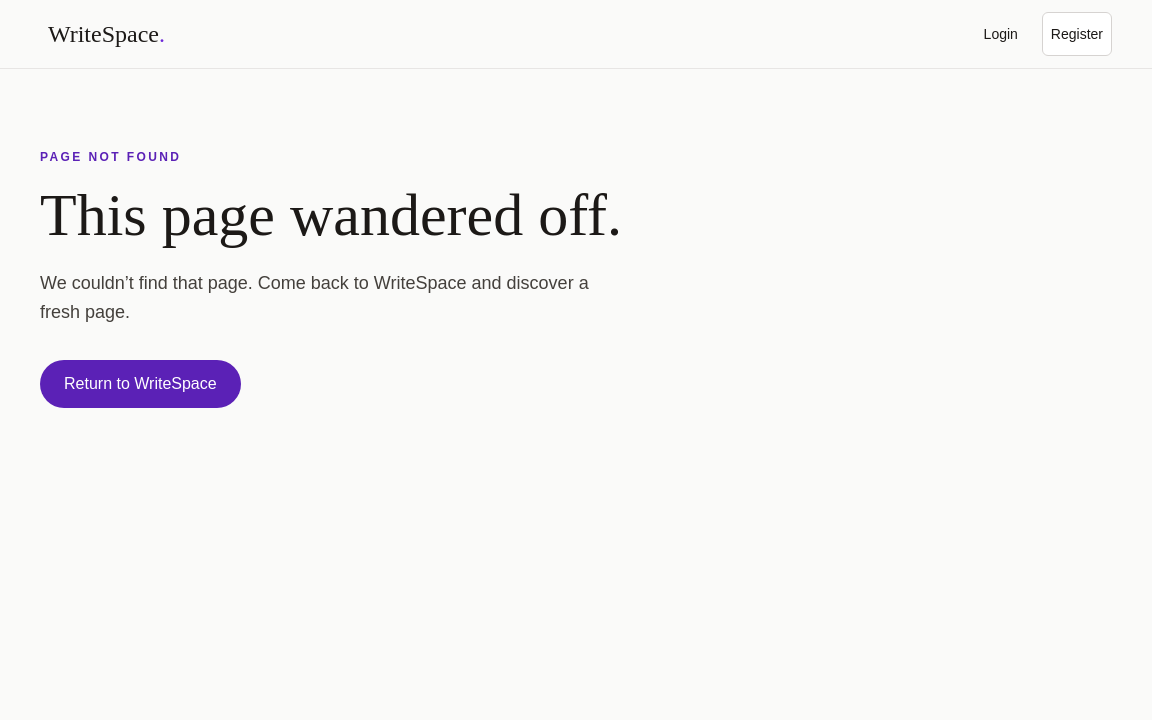
Test case: WriteSpace public entry › retains the unknown-route fallback and returns home through a native link click
Check: the heading "This page wandered off." is shown, box left=40, top=185, right=712, bottom=245
Check: the heading "Your thoughts. Your space. Beautifully simple." is not shown
Click the link "Return to WriteSpace" at (140, 384), box left=40, top=360, right=241, bottom=408
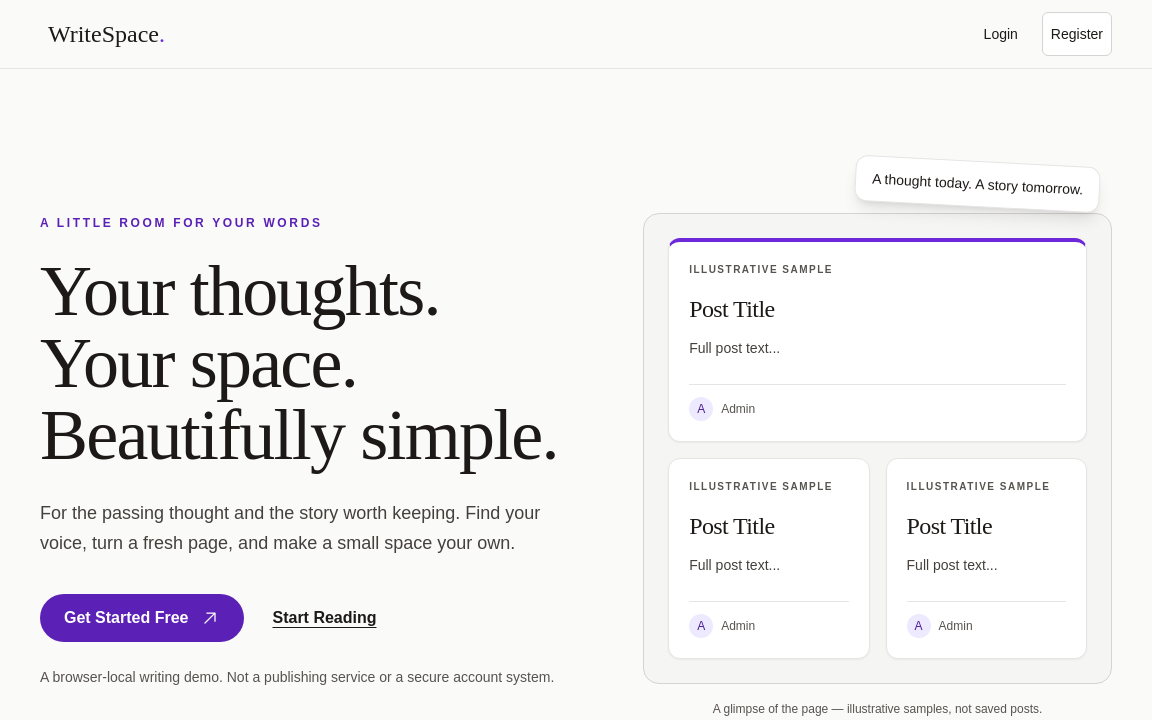
Check: the heading "Your thoughts. Your space. Beautifully simple." is shown, box left=40, top=255, right=579, bottom=471
